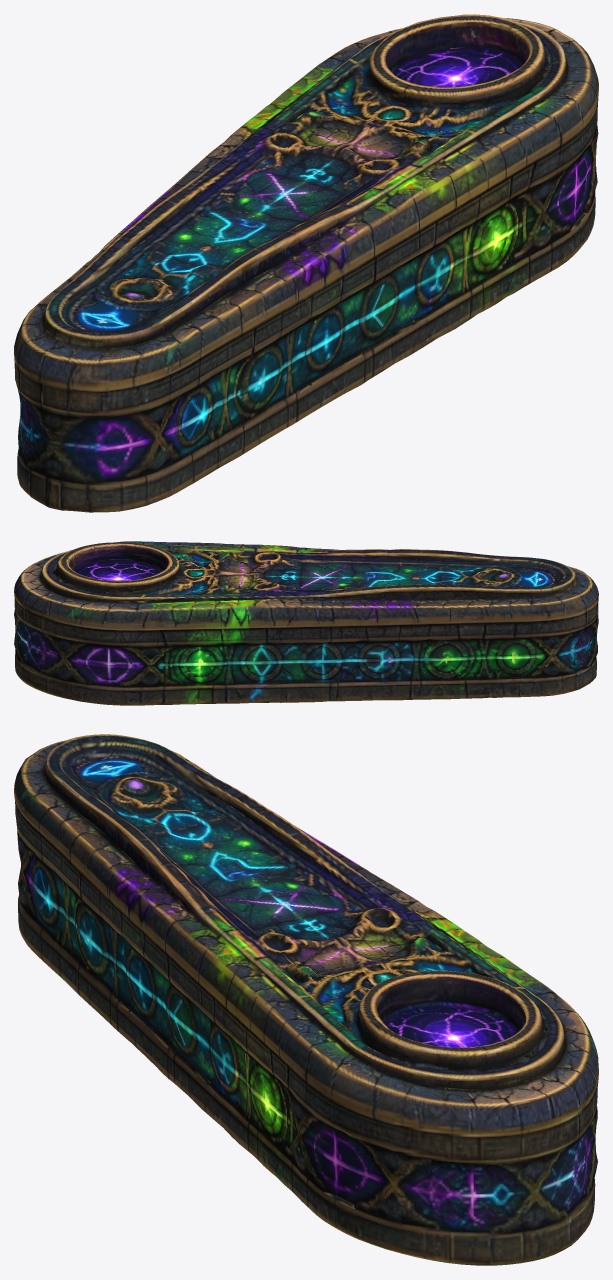
The model's file is Left_flipper_lvl_4.glb.
3 renders of one model, top to bottom at view 1: azimuth 30°, elevation 25°; view 2: azimuth 150°, elevation 25°; view 3: azimuth 270°, elevation 25°, orthographic. The views are drawn at different scales.
Visible parts, largest first — view 1: Mesh0; view 2: Mesh0; view 3: Mesh0.
Part boxes in pixels (left/top/right/bottom): Mesh0: left=14, top=14, right=598, bottom=512; Mesh0: left=14, top=541, right=598, bottom=705; Mesh0: left=14, top=734, right=598, bottom=1265.
Bounding box in the file's own units: 1.89 × 0.4344 × 1.23.
1 material, 1 textured.
